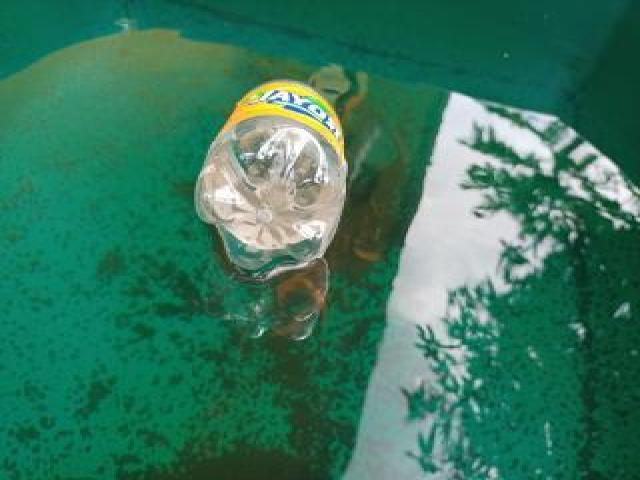Bottle: (192, 80, 346, 280)
